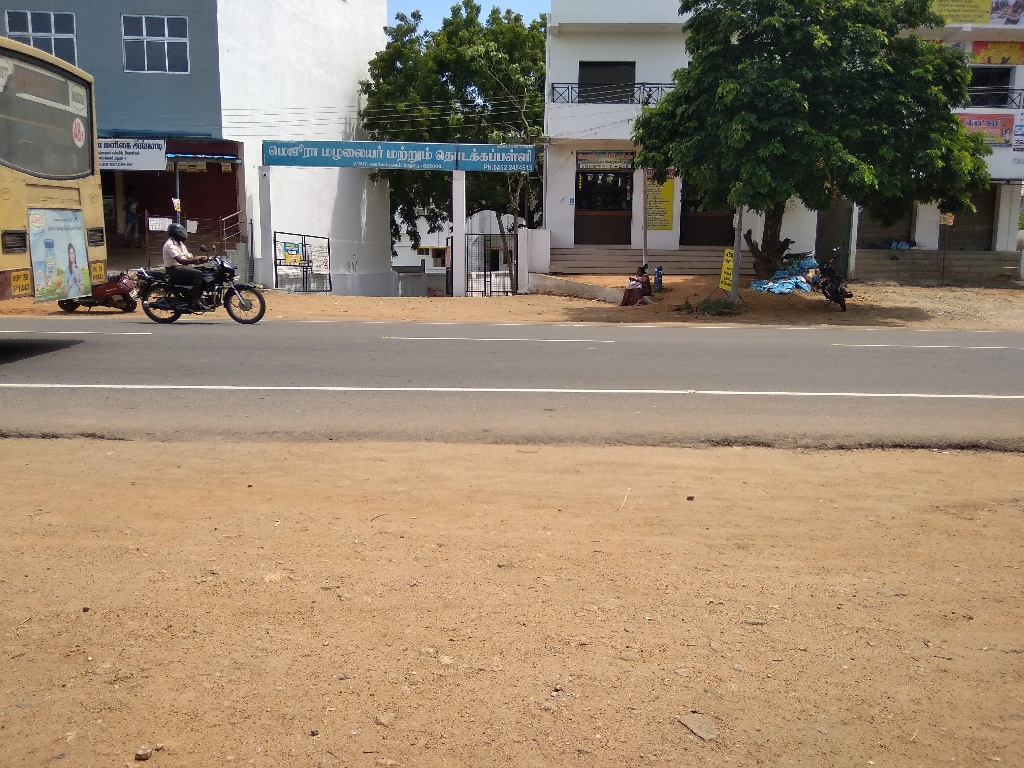biker: (122, 189, 274, 335)
helmet: (160, 213, 194, 255)
